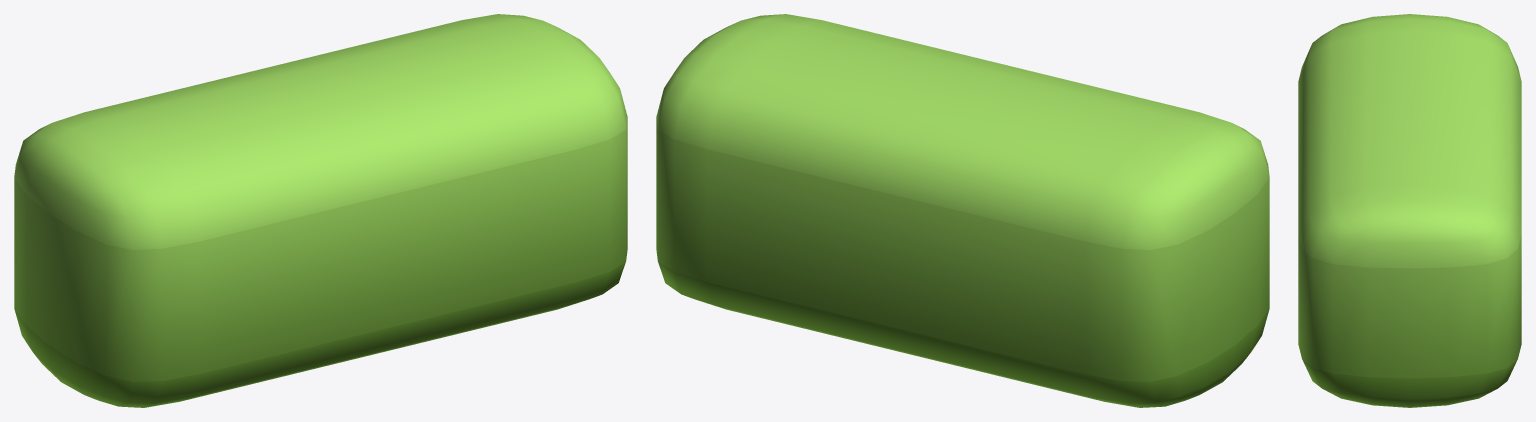
Rendered from grass_5.fbx.
The picture shows the model from 3 angles, left to right: view 1: azimuth 30°, elevation 25°; view 2: azimuth 150°, elevation 25°; view 3: azimuth 270°, elevation 25°; orthographic projection. The views are drawn at different scales.
Parts seen in each view (by area): view 1: grass_5; view 2: grass_5; view 3: grass_5.
Part boxes in pixels (x1,y1,x2,y2): grass_5: (14, 14, 627, 407); grass_5: (656, 14, 1269, 407); grass_5: (1298, 14, 1521, 407).
Bounding box in the file's own units: 155 × 66.35 × 65.88.
1 material, 1 textured.
